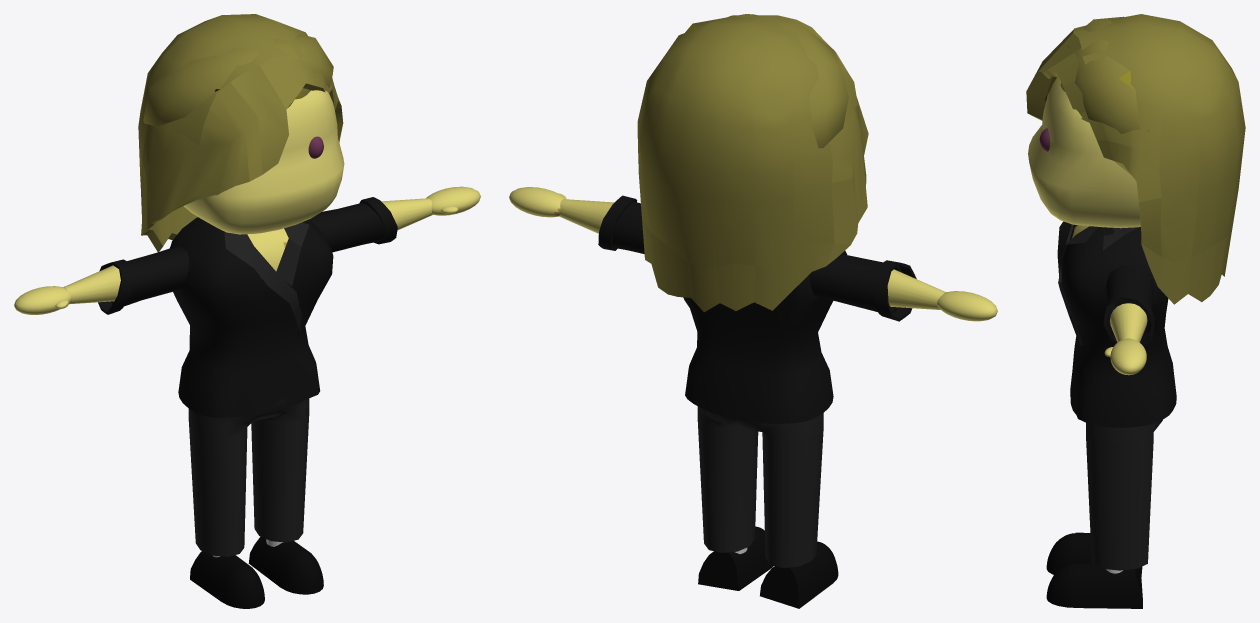
The model's file is Aphrodite.fbx.
3 renders of one model, left to right at view 1: azimuth 30°, elevation 25°; view 2: azimuth 150°, elevation 25°; view 3: azimuth 270°, elevation 25°, orthographic. The views are drawn at different scales.
Parts seen in each view (by area): view 1: pasted__pCylinder4; view 2: pasted__pCylinder4; view 3: pasted__pCylinder4.
Part boxes in pixels (x1,y1,x2,y2): pasted__pCylinder4: [14, 14, 480, 608]; pasted__pCylinder4: [509, 14, 997, 608]; pasted__pCylinder4: [1026, 14, 1245, 608].
Size of the model in its own units: 145 by 162 by 57.41.
